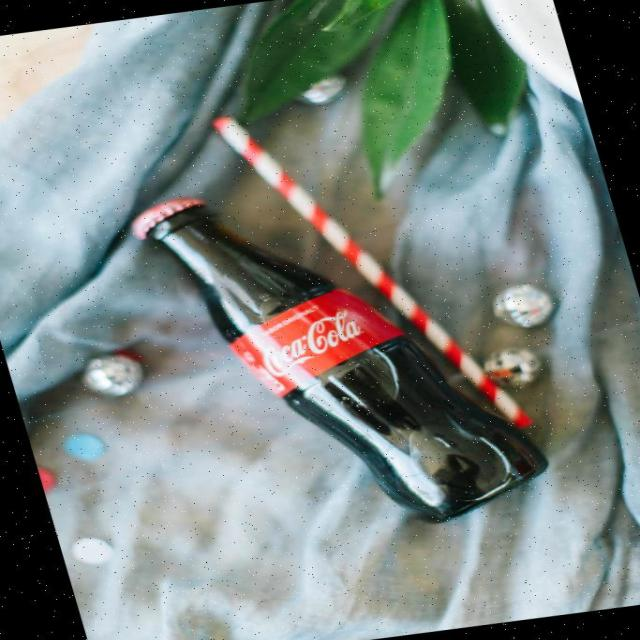coca-cola: (103, 151, 570, 556)
